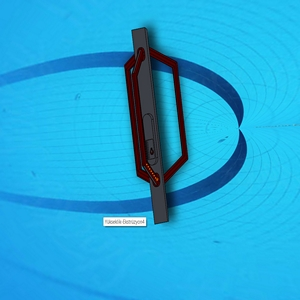submarine: (125, 29, 186, 230)
